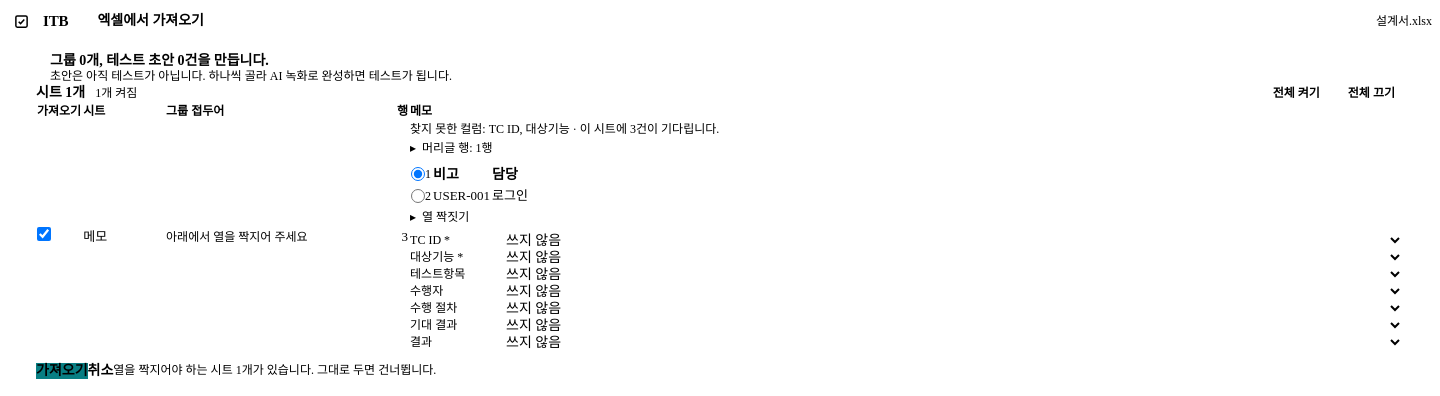
it: 컬럼 짝짓기 › 짝지으면 확정이 열린다
Expected: the text "열을 짝지어야 하는 시트 1개가 있습니다. 그대로 두면 건너뜁니다." is shown, x1=113 y1=362 x2=436 y2=379
Select "비고" in the dropdown named "메모 의 TC ID 열" at (948, 241), box x1=492 y1=232 x2=1403 y2=249
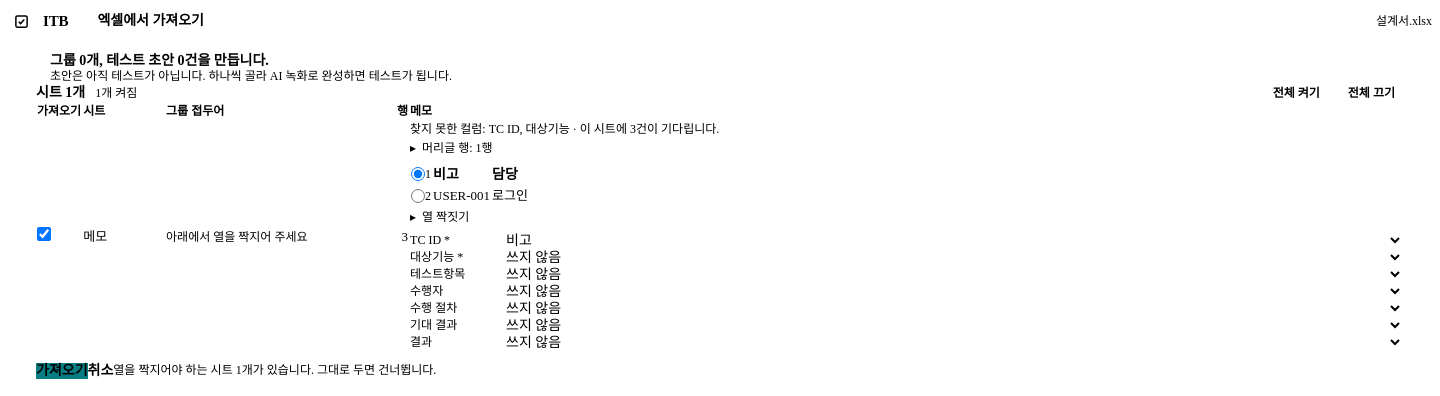
Select "담당" in the dropdown named "메모 의 대상기능 열" at (948, 258), box x1=492 y1=249 x2=1403 y2=266
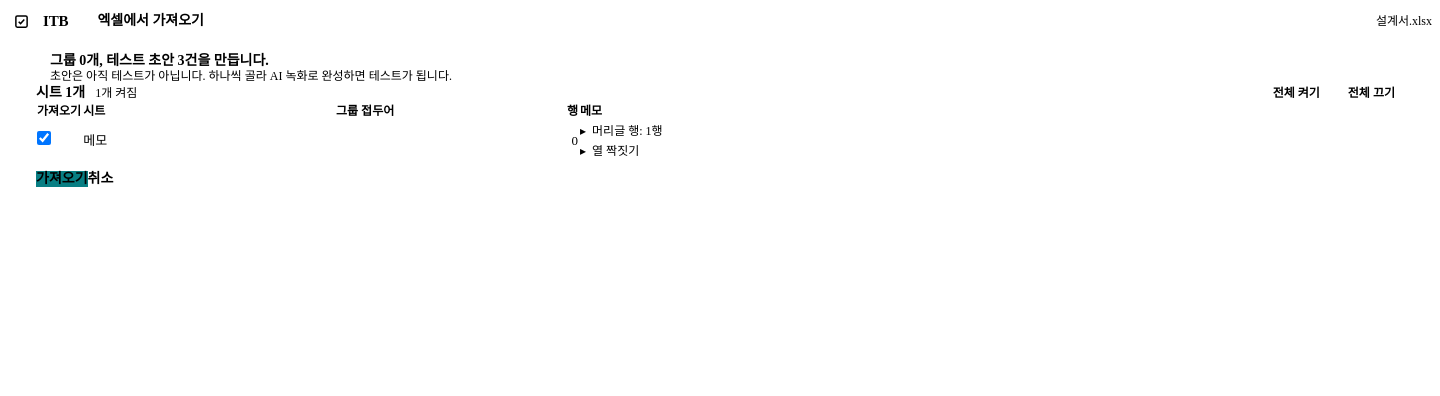
Now the text "열을 짝지어야 하는 시트" is gone
